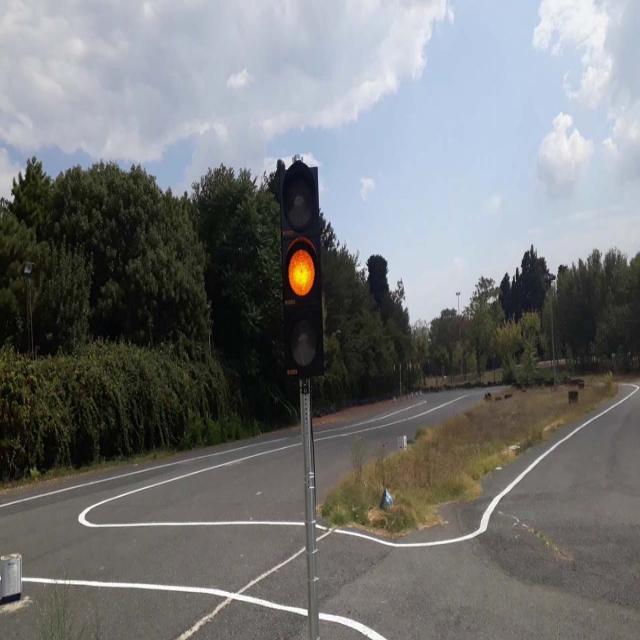sari: (281, 165, 325, 378)
